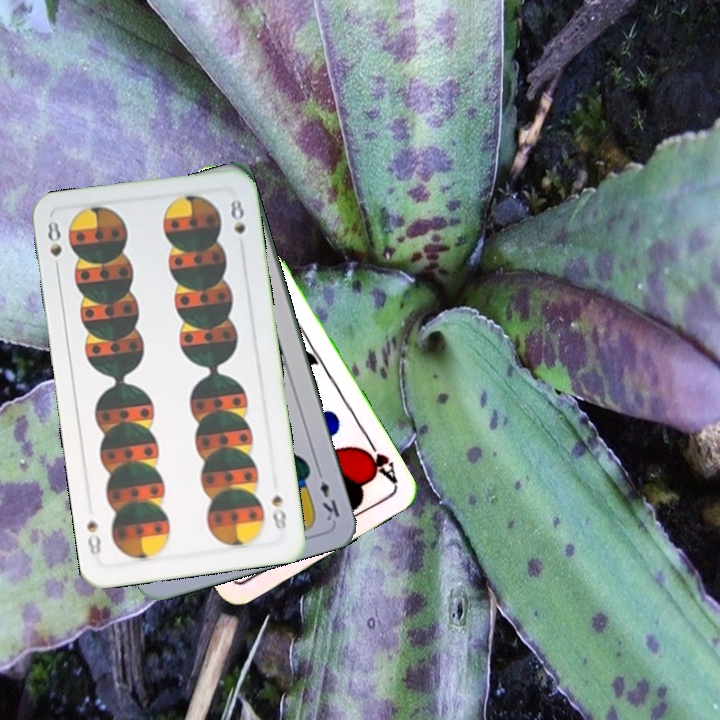EK: (313, 465, 343, 524)
HA: (355, 434, 401, 488)
S8: (43, 216, 65, 276), (268, 490, 289, 533)
